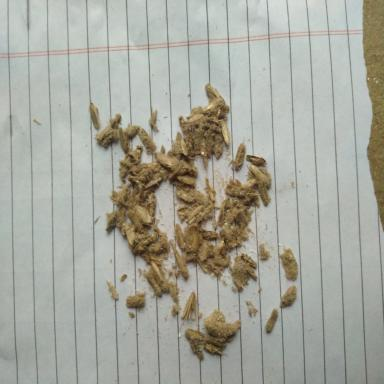pbw: (138, 128, 156, 151), (181, 292, 196, 319), (174, 251, 188, 278), (250, 165, 270, 183), (146, 274, 162, 296), (280, 286, 296, 307), (128, 210, 143, 232), (174, 223, 186, 250), (234, 143, 246, 170), (136, 204, 152, 224), (240, 177, 256, 196), (108, 190, 126, 206), (156, 152, 174, 168), (218, 198, 230, 222), (266, 308, 278, 331), (175, 188, 194, 202), (205, 98, 224, 112), (184, 328, 203, 342), (204, 334, 226, 346), (124, 223, 136, 245), (201, 342, 223, 354), (243, 185, 256, 205), (142, 251, 162, 264), (206, 84, 222, 100), (106, 210, 118, 231), (246, 154, 267, 166), (89, 104, 99, 128), (106, 280, 118, 300), (146, 192, 156, 216), (213, 105, 230, 119), (95, 125, 112, 139), (231, 226, 248, 240), (214, 133, 223, 159), (200, 229, 219, 241), (178, 115, 190, 134), (196, 257, 210, 273), (174, 131, 182, 159), (182, 161, 198, 175), (194, 190, 208, 206), (102, 130, 118, 144), (221, 121, 230, 145), (188, 114, 206, 126), (168, 280, 178, 301), (132, 240, 146, 255), (258, 184, 268, 205), (190, 342, 203, 358), (241, 253, 257, 266), (124, 124, 140, 137), (225, 184, 242, 196), (177, 175, 195, 186), (206, 178, 215, 200), (245, 263, 257, 279), (199, 242, 209, 261), (147, 243, 164, 254), (119, 127, 127, 150), (177, 206, 195, 216), (190, 204, 203, 217), (167, 167, 180, 180), (145, 178, 161, 188), (146, 232, 158, 245), (201, 146, 208, 168), (180, 139, 188, 157), (208, 115, 221, 124), (216, 240, 224, 254), (127, 175, 145, 181), (150, 109, 157, 124), (148, 161, 160, 168)
